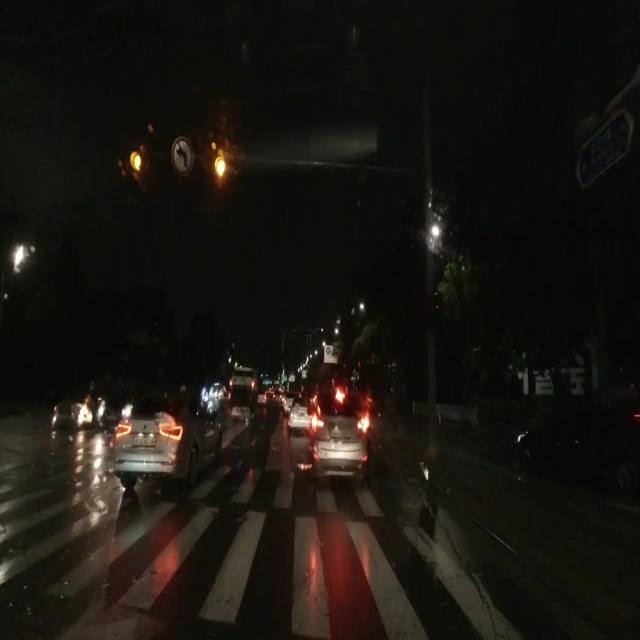Car: (514, 387, 639, 502), (112, 404, 218, 481), (310, 385, 369, 459), (286, 396, 313, 424)
